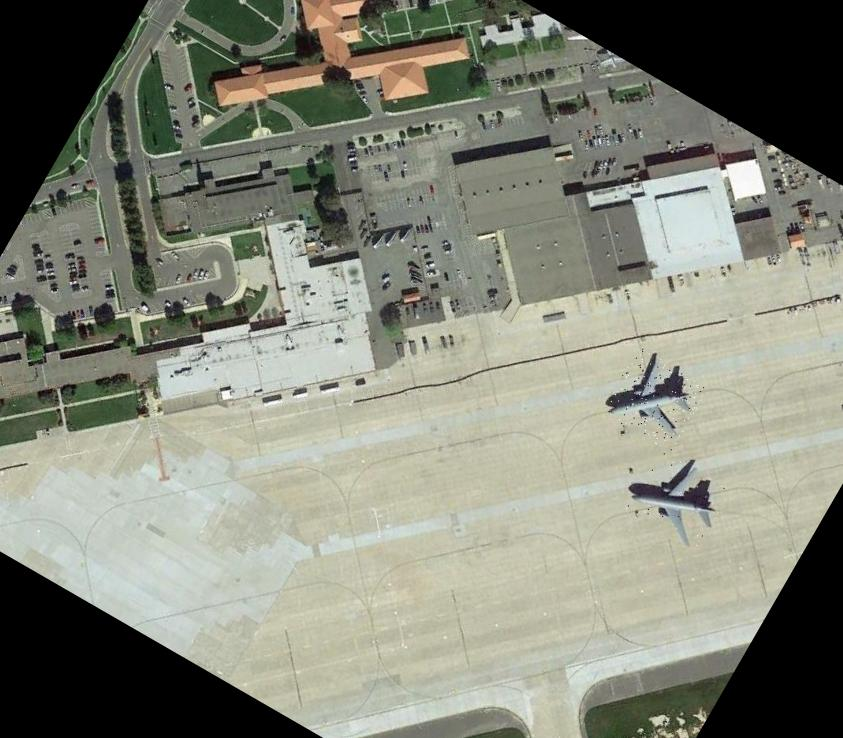A18: (620, 444, 731, 554), (600, 346, 708, 453)
